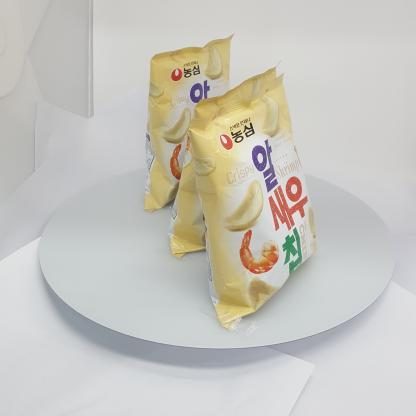Plastic Packaging: (132, 27, 334, 341)
